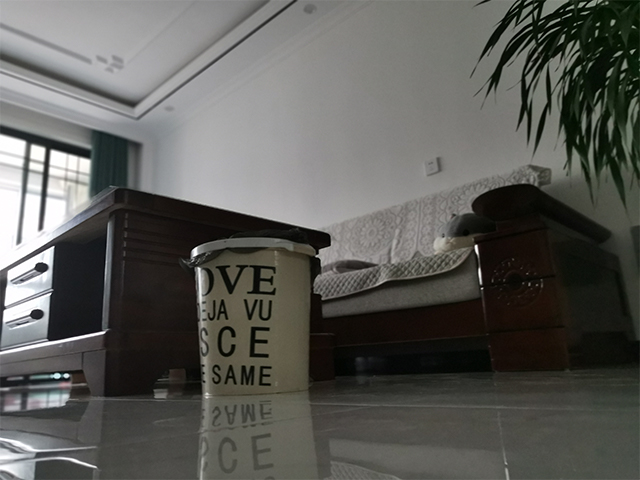sofa: (312, 162, 638, 374)
table: (1, 183, 337, 399)
trashcan: (187, 236, 318, 399)
